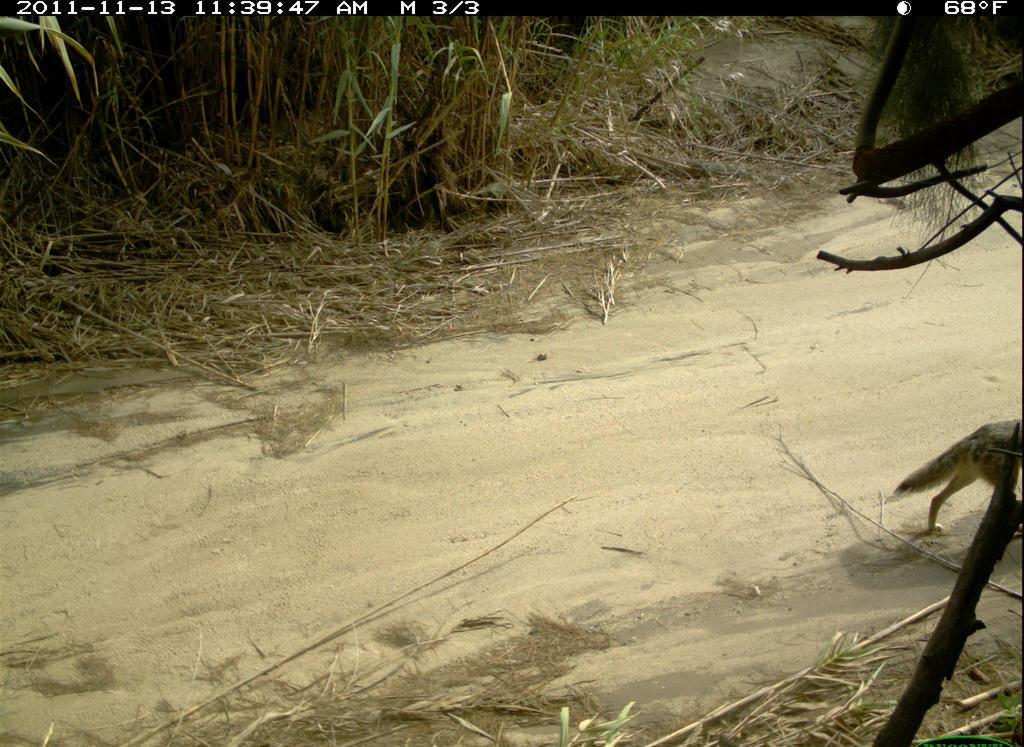coyote: (888, 409, 1023, 548)
